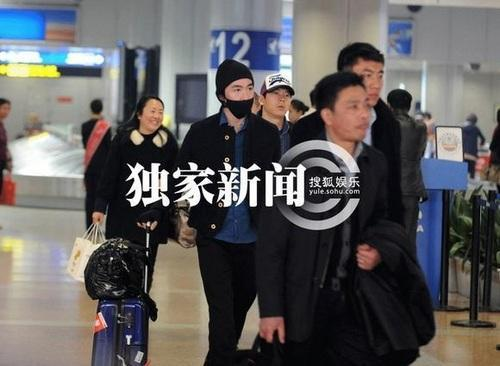NONE: (337, 100, 372, 141), (356, 69, 386, 104), (268, 88, 292, 115), (144, 106, 165, 129)
WRONG: (226, 81, 256, 115)
